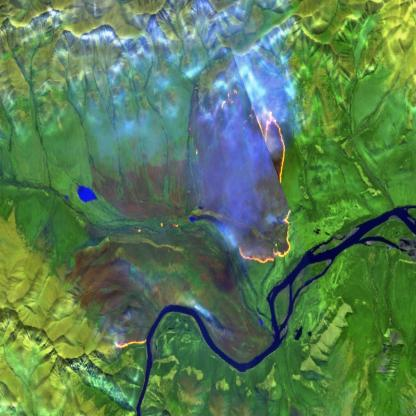fire: (216, 63, 292, 268), (110, 327, 152, 356)
